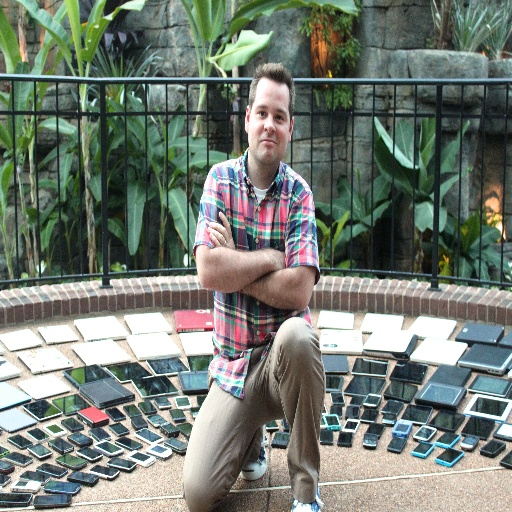hand: (200, 222, 240, 298), (275, 247, 286, 270)
